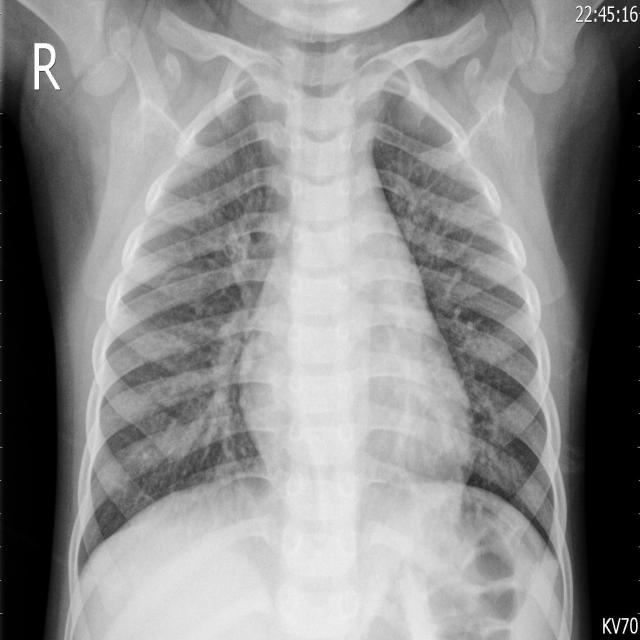low-pneumonia: (218, 181, 274, 317), (191, 306, 241, 429)
